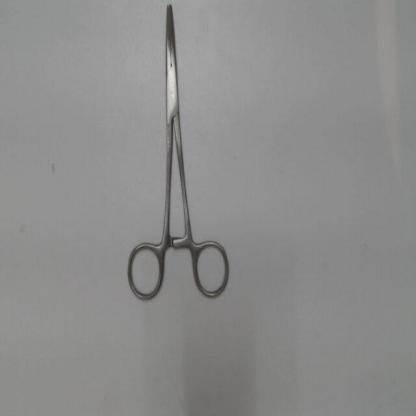Crile Artery Forceps: (119, 2, 234, 305)
